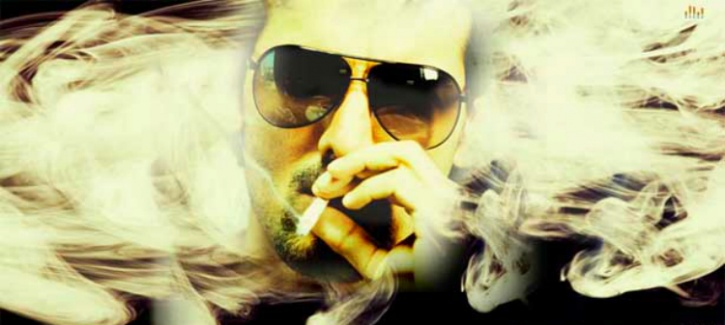cigarette: (297, 188, 328, 246)
